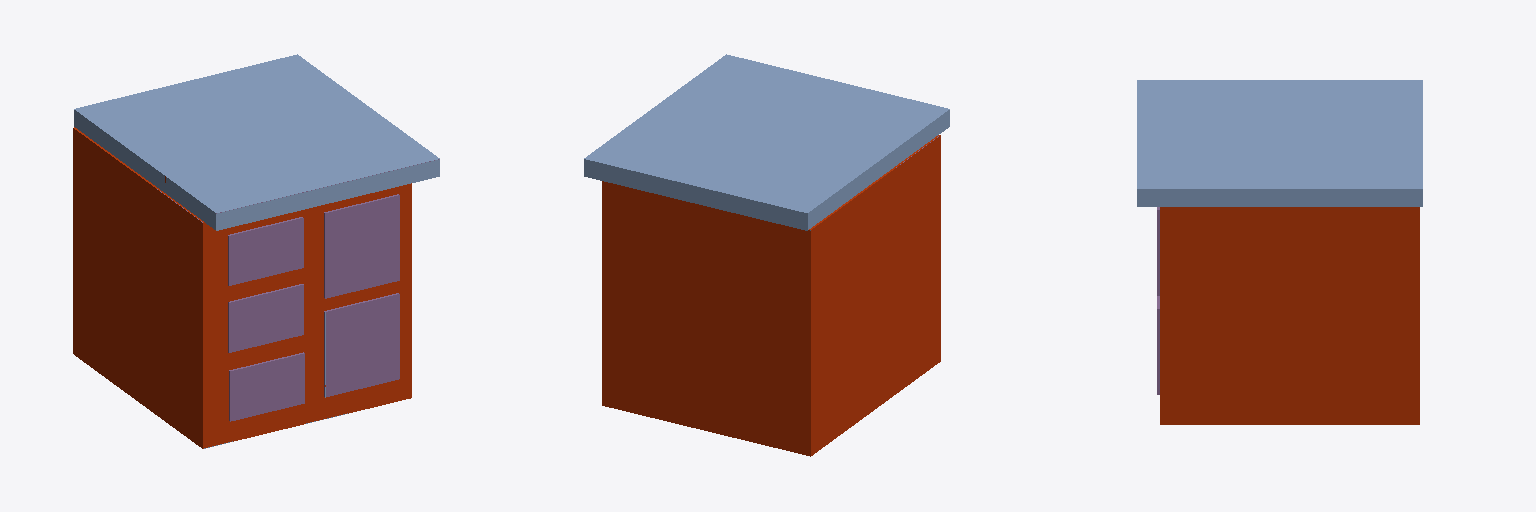
The picture shows the model from 3 angles: view 1: azimuth 30°, elevation 25°; view 2: azimuth 150°, elevation 25°; view 3: azimuth 270°, elevation 25°; orthographic projection.
Parts seen in each view (by area): view 1: Cube.096_Cube.100; view 2: Cube.096_Cube.100; view 3: Cube.096_Cube.100.
Boxes of the visible parts, <box> form: Cube.096_Cube.100: <box>73,54,439,448</box>; Cube.096_Cube.100: <box>584,54,949,456</box>; Cube.096_Cube.100: <box>1137,80,1422,424</box>.
Bounding box in the file's own units: 8.28 × 8.53 × 9.06.
Materials: 1 (1 with a texture image).